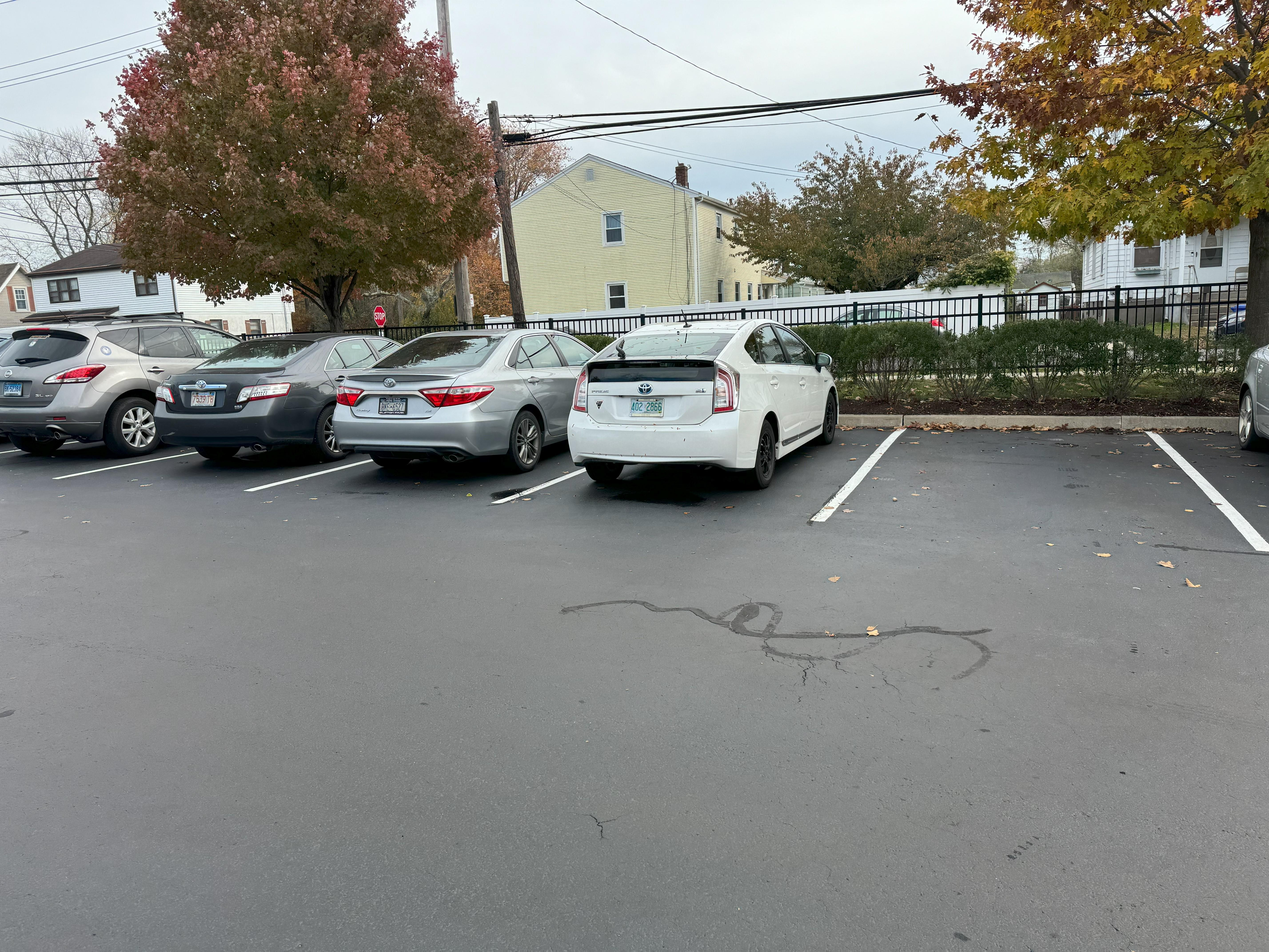empty: (891, 438, 1210, 574)
occupied: (565, 298, 868, 519), (351, 325, 589, 497), (9, 307, 160, 481), (167, 334, 334, 472)
